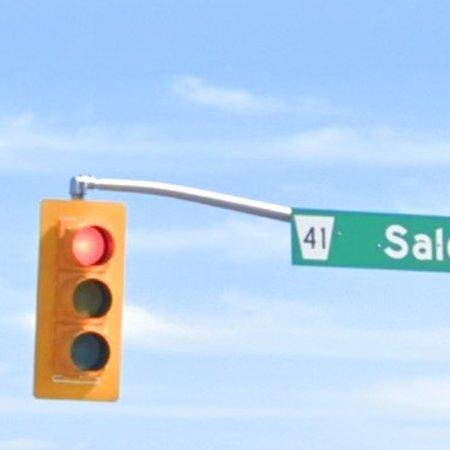traffic lights: (34, 200, 125, 401), (97, 203, 122, 235)
